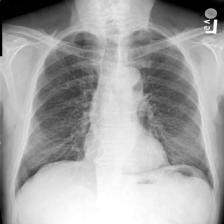normal: (14, 23, 216, 201)
